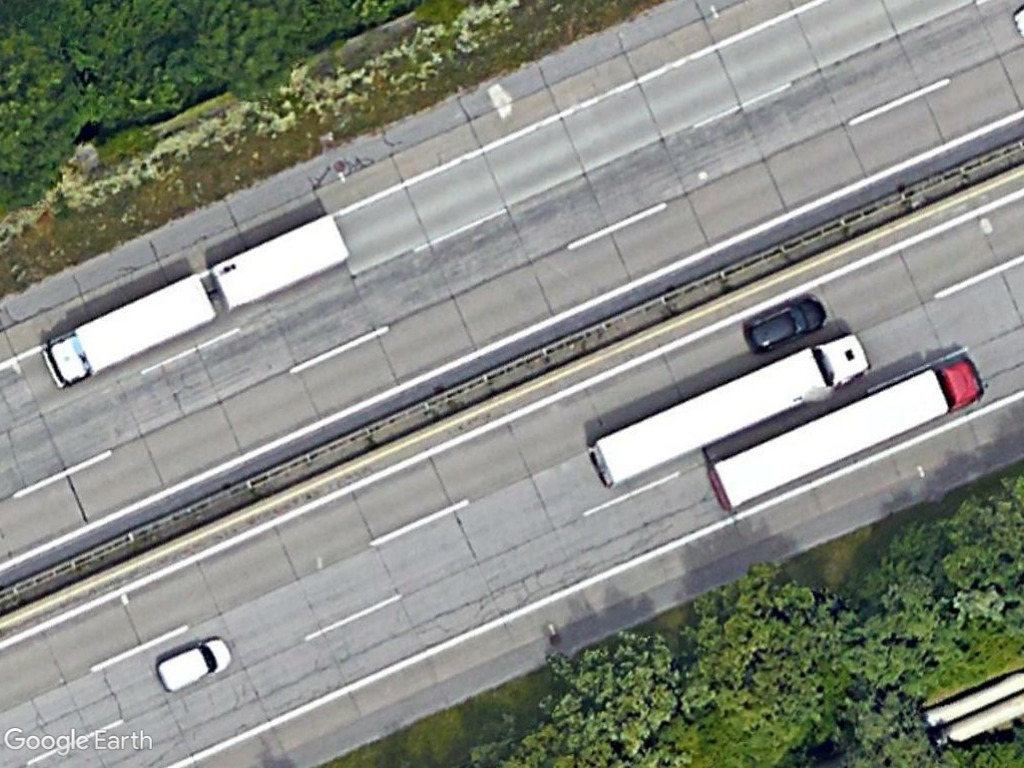car: (739, 286, 834, 362), (154, 630, 236, 697)
longvehicle: (582, 324, 880, 493), (705, 351, 990, 515)
truck: (33, 267, 226, 397)
